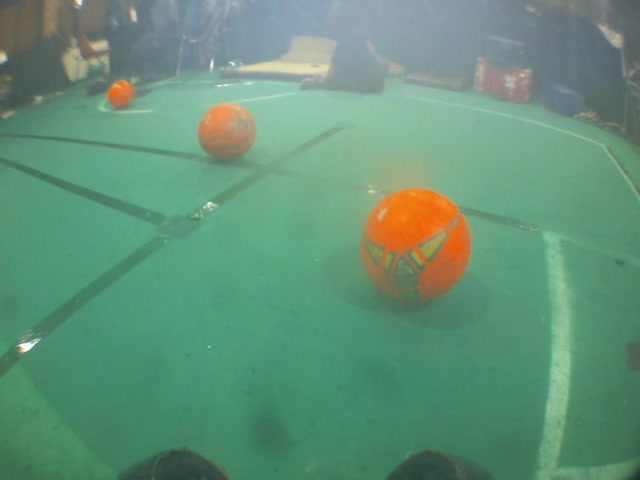ball: (352, 181, 476, 318), (192, 100, 261, 169), (101, 78, 138, 113)
